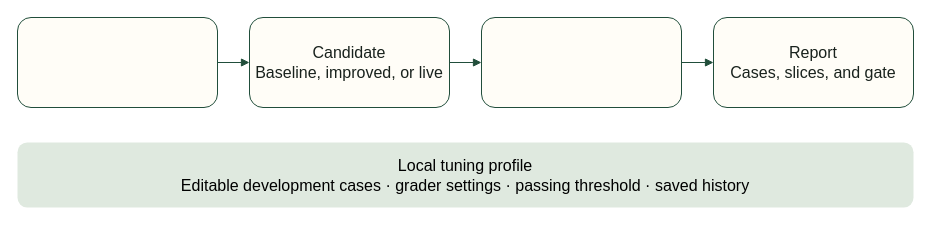
Some shapes in this 931 by 225 pixel diagram are drawn without their labels. The box of each missing label's shape, as (x1, y1, x2, y2) in pixels:
Dataset Inputs + expected answers: (16, 16, 218, 108)
Grader Rules + reference answers: (480, 16, 682, 108)
